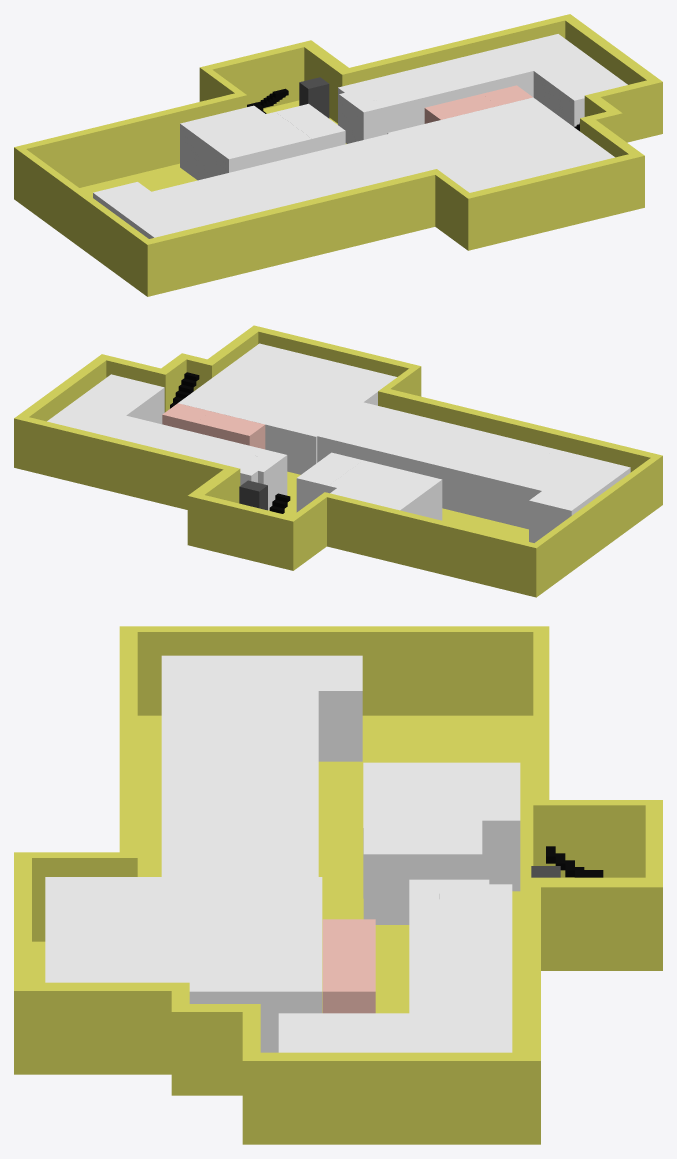
The picture shows the model from 3 angles, top to bottom: view 1: azimuth 30°, elevation 25°; view 2: azimuth 150°, elevation 25°; view 3: azimuth 270°, elevation 25°; orthographic projection. The views are drawn at different scales.
Visible parts, largest first — view 1: object, 第5閲覧室, 書庫, 会計学研究所, 社会科学研究所, 商学研究所, 人文科学研究所, 経営研究所, 研究所受付, 男子トイレ_図書館生田分館_5_1, エレベーター_図書館生田分館_5_1, 女子トイレ_図書館生田分館_5_1; view 2: object, 書庫, 第5閲覧室, 社会科学研究所, 人文科学研究所, 会計学研究所, 経営研究所, 商学研究所, 研究所受付, 男子トイレ_図書館生田分館_5_1, 女子トイレ_図書館生田分館_5_1, エレベーター_図書館生田分館_5_1 (+1 smaller); view 3: object, 書庫, 第5閲覧室, 社会科学研究所, 会計学研究所, 人文科学研究所, 商学研究所, 経営研究所, 研究所受付, 女子トイレ_図書館生田分館_5_1, 男子トイレ_図書館生田分館_5_1, 階段__図書館生田分館_5_1.
Boxes of the visible parts, x1,y1,x2,y2 form: object: (14,14,662,296); 第5閲覧室: (338,34,627,143); 書庫: (387,97,614,192); 会計学研究所: (180,105,312,180); 社会科学研究所: (93,182,234,238); 商学研究所: (254,150,368,201); 人文科学研究所: (187,167,301,217); 経営研究所: (322,134,435,185); 研究所受付: (276,103,345,152); 男子トイレ_図書館生田分館_5_1: (424,94,497,123); エレベーター_図書館生田分館_5_1: (299,77,329,118); 女子トイレ_図書館生田分館_5_1: (482,85,532,105); object: (14,325,662,597); 書庫: (178,343,396,474); 第5閲覧室: (47,374,287,510); 社会科学研究所: (508,449,630,542); 人文科学研究所: (444,433,554,524); 会計学研究所: (328,460,442,520); 経営研究所: (317,402,426,464); 商学研究所: (381,418,490,508); 研究所受付: (296,452,362,512); 男子トイレ_図書館生田分館_5_1: (195,411,265,449); 女子トイレ_図書館生田分館_5_1: (162,403,210,432); エレベーター_図書館生田分館_5_1: (239,480,267,510); object: (14,626,662,1144); 書庫: (45,877,322,1052); 第5閲覧室: (278,879,512,1052); 社会科学研究所: (161,655,362,761); 会計学研究所: (363,762,520,898); 人文科学研究所: (161,718,318,771); 商学研究所: (161,771,318,824); 経営研究所: (161,824,318,876); 研究所受付: (363,828,482,924); 女子トイレ_図書館生田分館_5_1: (322,964,375,1013); 男子トイレ_図書館生田分館_5_1: (322,919,375,963); 階段__図書館生田分館_5_1: (546,846,603,877).
Size of the model in its own units: 2.36 by 0.2155 by 1.49.
